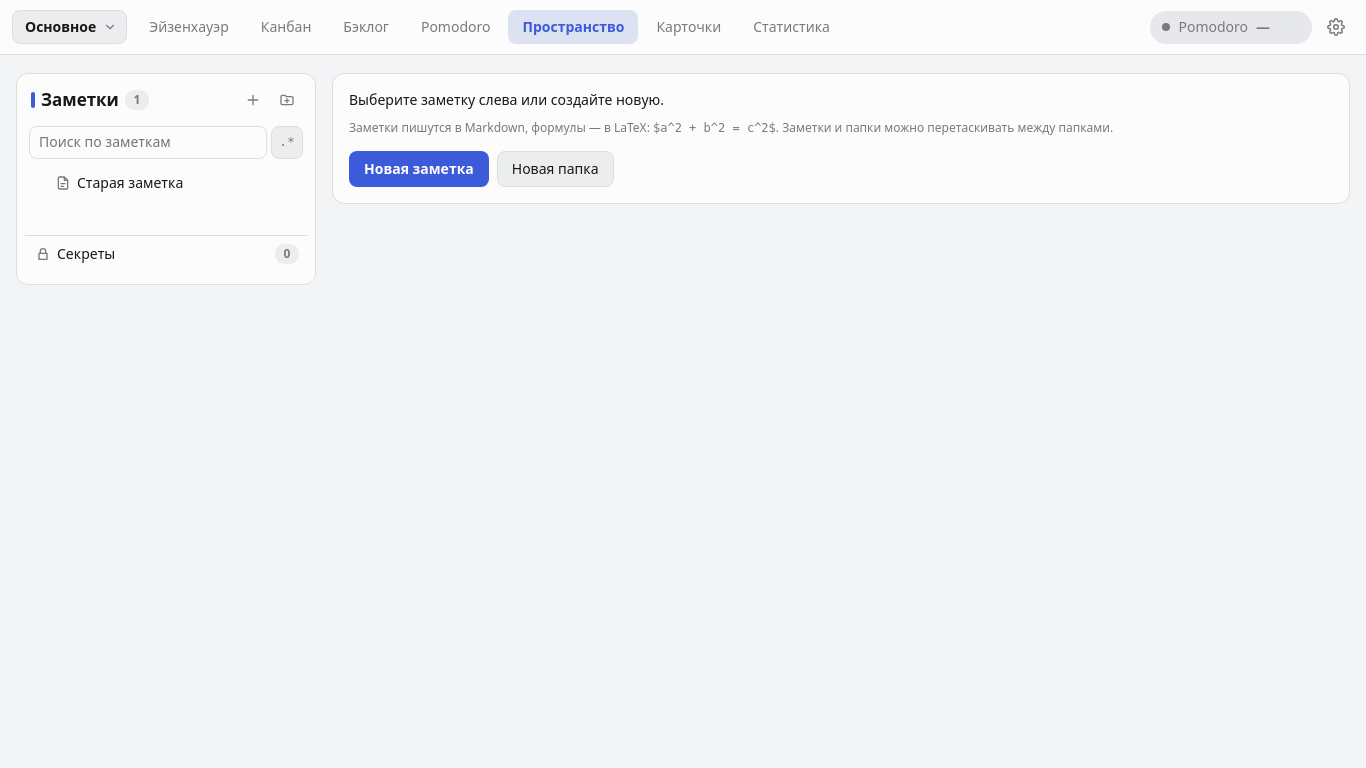
knowledge space › opens notes saved by v2.0 from the root of the tree
Click the button "Старая заметка".
click(166, 183)  # box [25,167,307,199]
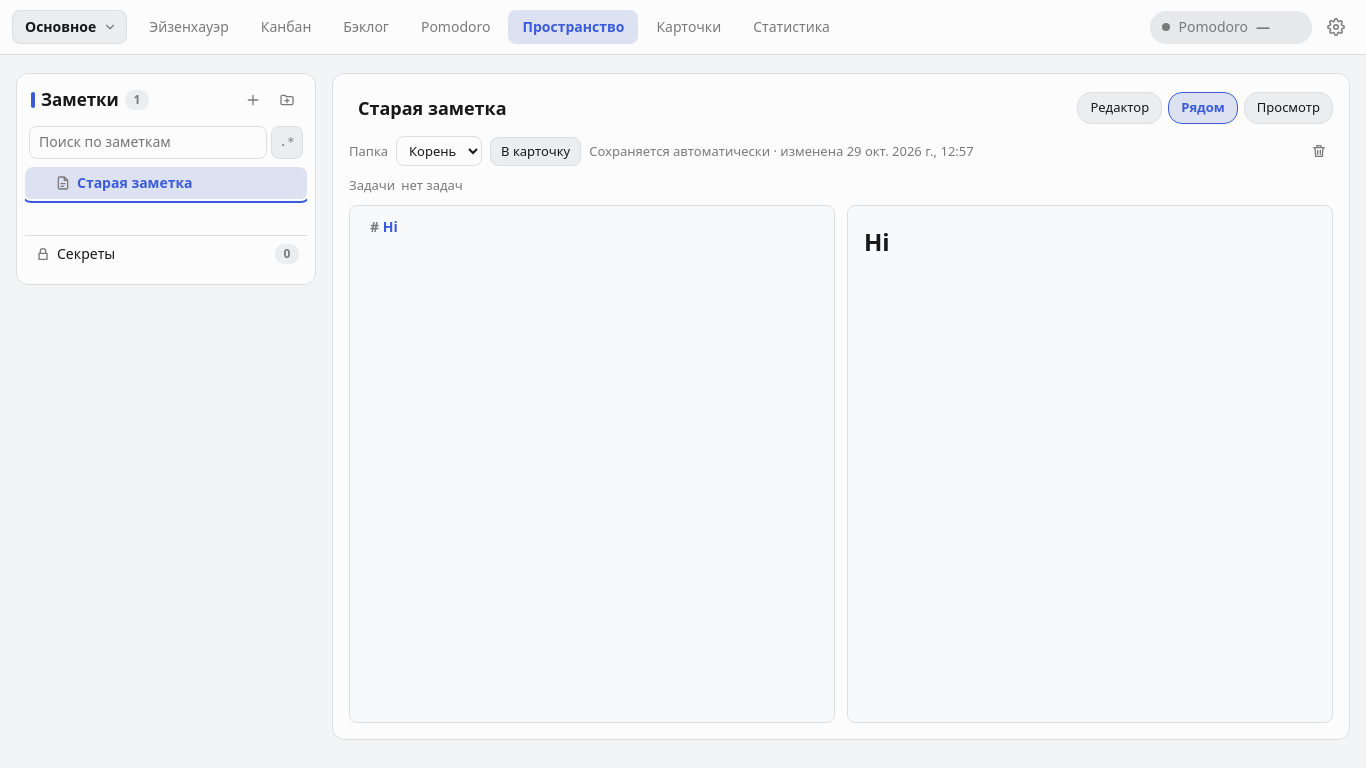
Expected: the field named "Заголовок заметки" holds "Старая заметка", [349,90,1065,126]
Expected: the heading "Hi" is shown, [864,225,890,258]
